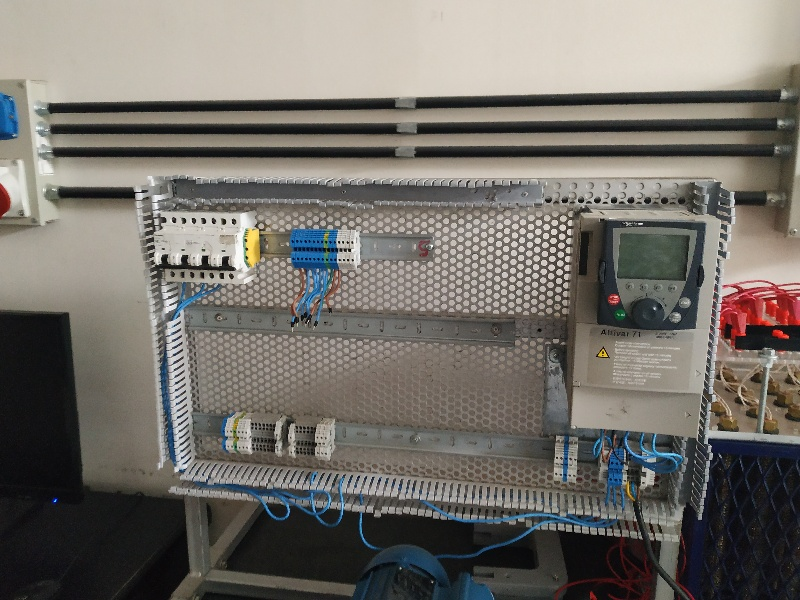Tablero 0: (146, 182, 715, 520)
